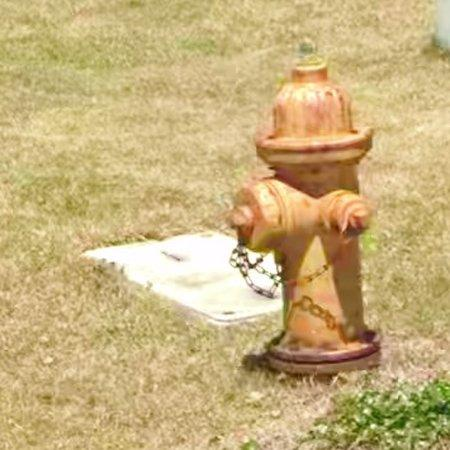a fire hydrant: (229, 50, 382, 375)
